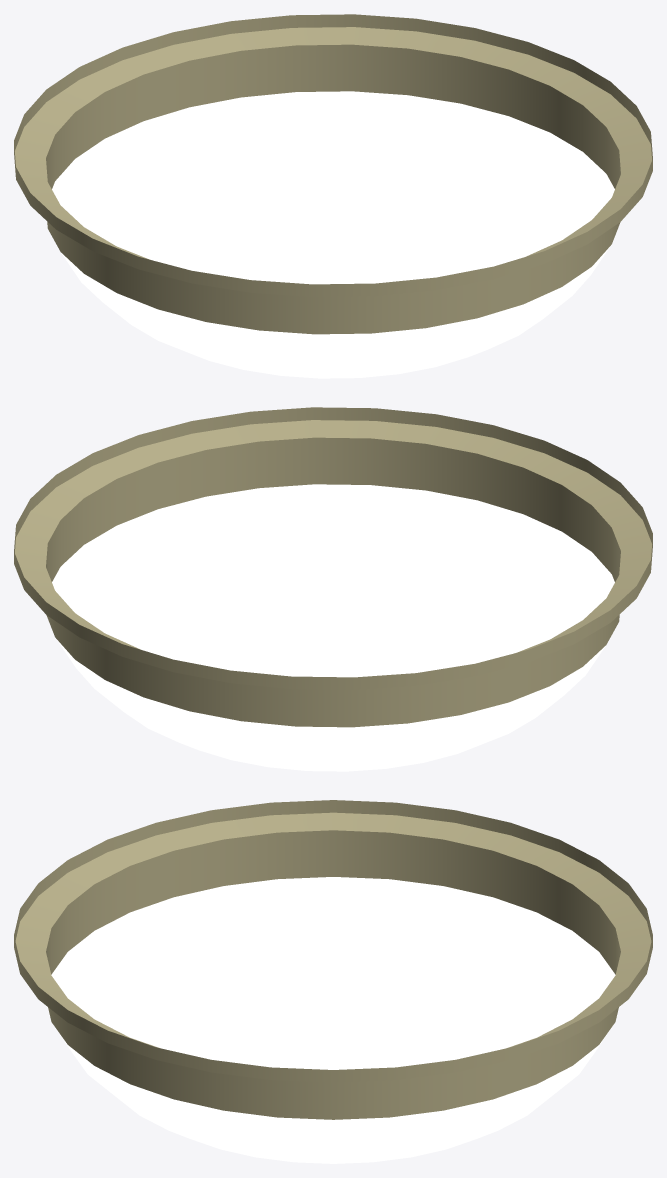
Rendered from interior_domelight001a.fbx.
3 views of the same model, one above another, from view 1: azimuth 30°, elevation 25°; view 2: azimuth 150°, elevation 25°; view 3: azimuth 270°, elevation 25° (orthographic).
Parts seen in each view (by area): view 1: Cylinder; view 2: Cylinder; view 3: Cylinder.
Part boxes in pixels (x1,y1,x2,y2): Cylinder: (14,14,652,378); Cylinder: (14,407,652,771); Cylinder: (14,800,652,1163).
Size of the model in its own units: 91.44 by 24.01 by 91.44.
